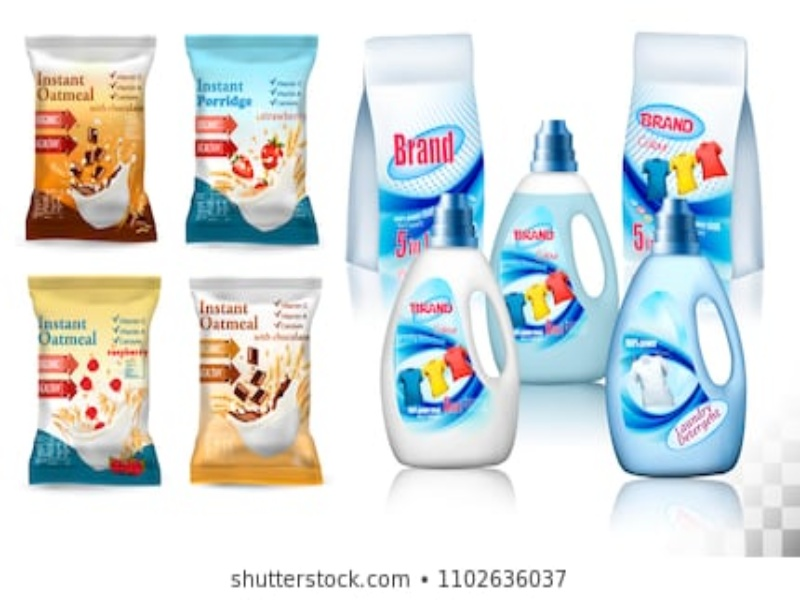detergent-bottle: (603, 193, 752, 482), (377, 190, 521, 475), (490, 116, 623, 387)
